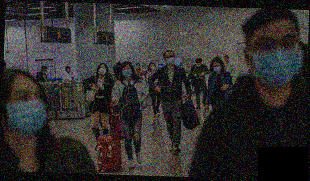with_mask: (251, 33, 304, 89), (5, 87, 46, 136), (122, 66, 133, 80), (165, 54, 175, 66), (213, 63, 223, 74), (98, 65, 107, 76), (150, 64, 156, 71), (42, 68, 47, 75), (195, 63, 202, 68), (67, 67, 71, 75), (136, 65, 141, 70)
without_mask: (223, 57, 229, 64)
